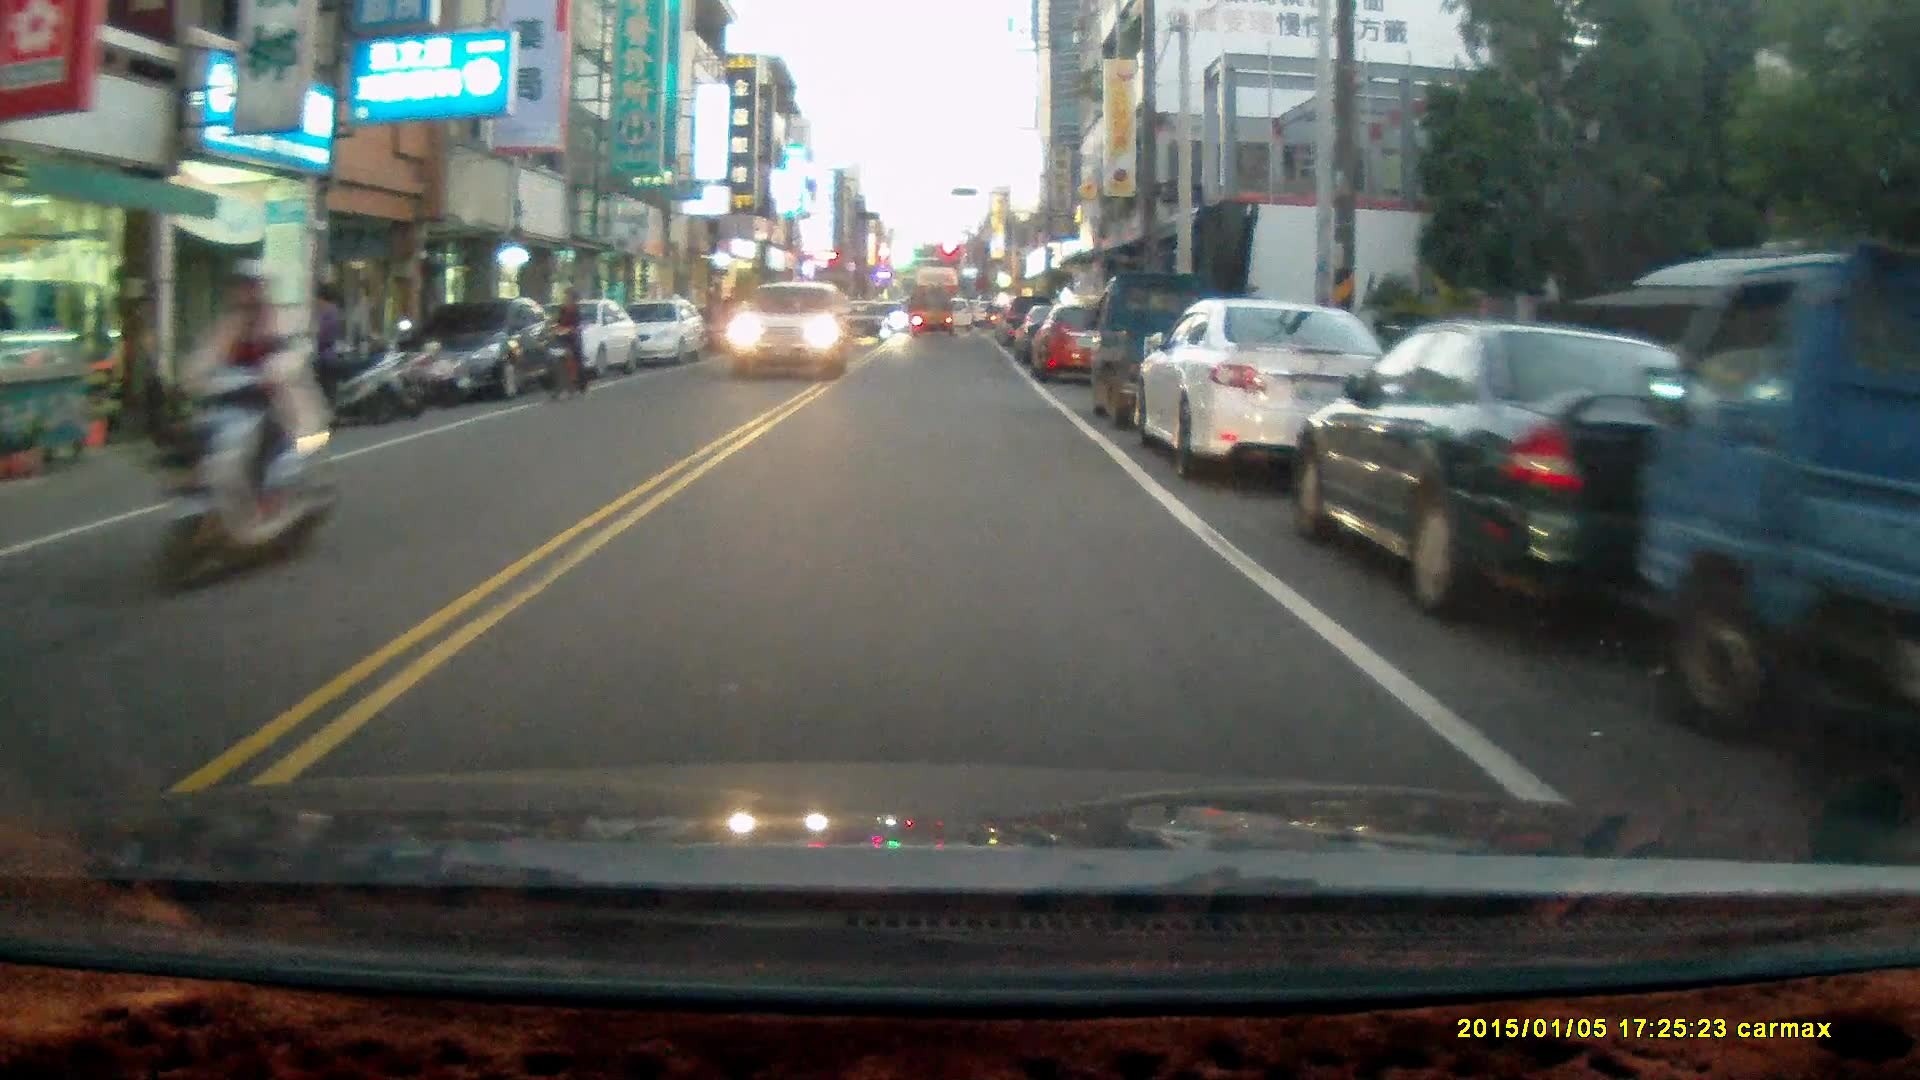pedestrian: (294, 275, 341, 434)
rider: (151, 254, 339, 595), (541, 288, 586, 402)
vehicle: (1632, 237, 1920, 786), (1289, 316, 1777, 623), (1132, 295, 1406, 480), (1089, 263, 1260, 438), (407, 295, 564, 401), (495, 301, 643, 386), (728, 279, 852, 375), (1027, 304, 1130, 383), (609, 297, 707, 365), (834, 297, 895, 347), (905, 283, 956, 339)
